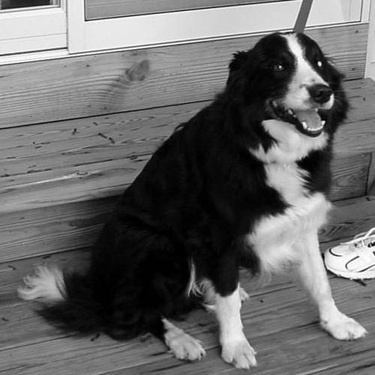dog: (11, 21, 371, 370)
